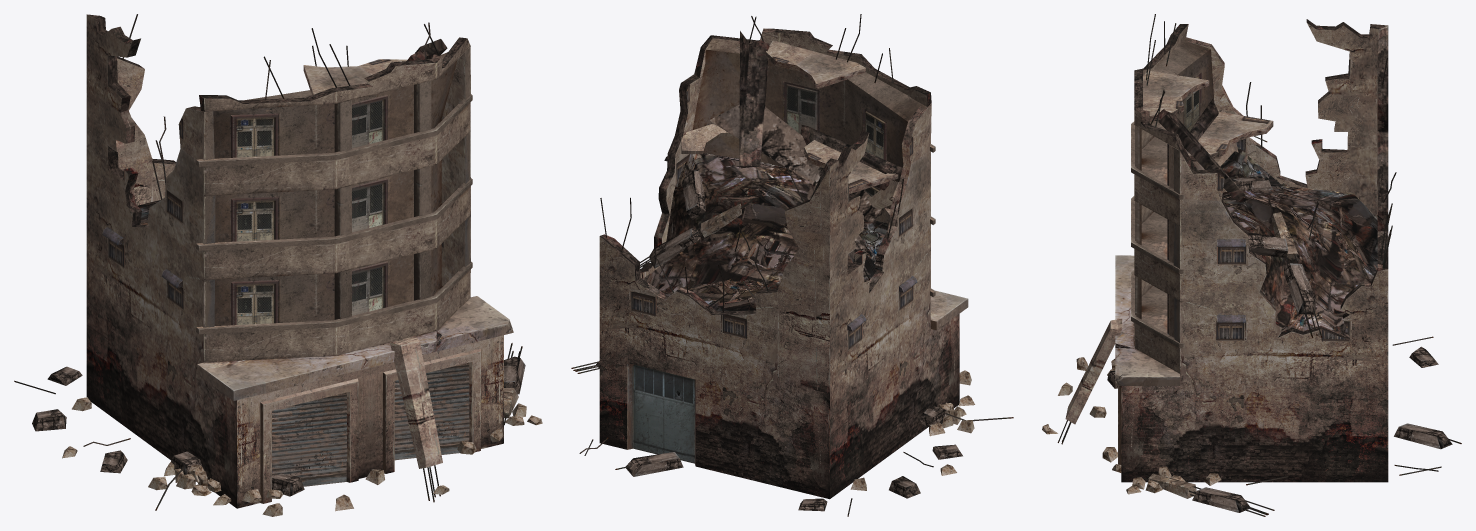
File: buildings_11_ruin.FBX
3 renders of one model, left to right at view 1: azimuth 30°, elevation 25°; view 2: azimuth 150°, elevation 25°; view 3: azimuth 270°, elevation 25°, orthographic. The views are drawn at different scales.
Parts seen in each view (by area): view 1: Object106; view 2: Object106; view 3: Object106.
Boxes of the visible parts, left/top/right/bottom form: Object106: left=14, top=14, right=542, bottom=516; Object106: left=571, top=14, right=1013, bottom=516; Object106: left=1042, top=14, right=1461, bottom=516.
Bounding box in the file's own units: 1768 × 1595 × 1677.
1 material, 1 textured.
